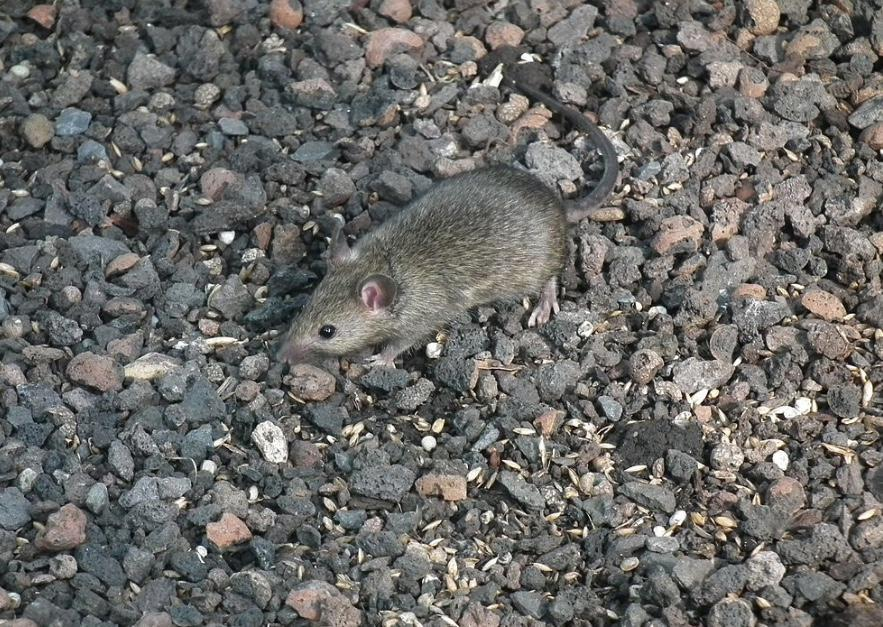rat: (276, 82, 618, 364)
